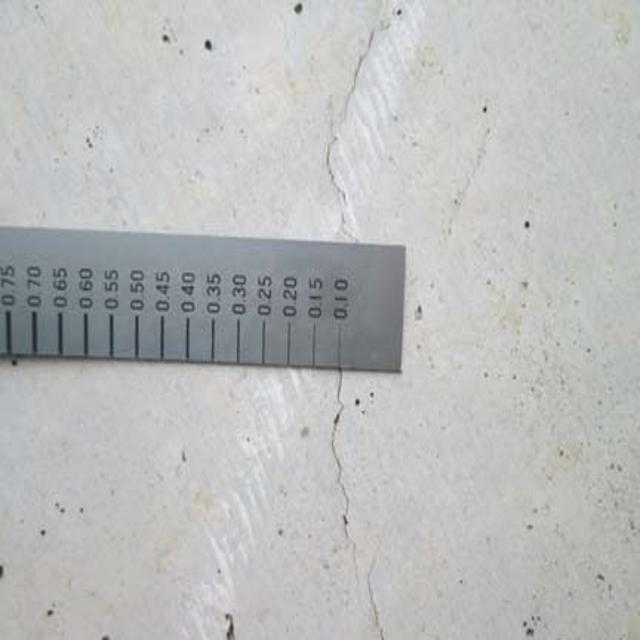crack: (313, 374, 418, 640), (304, 16, 406, 250)
